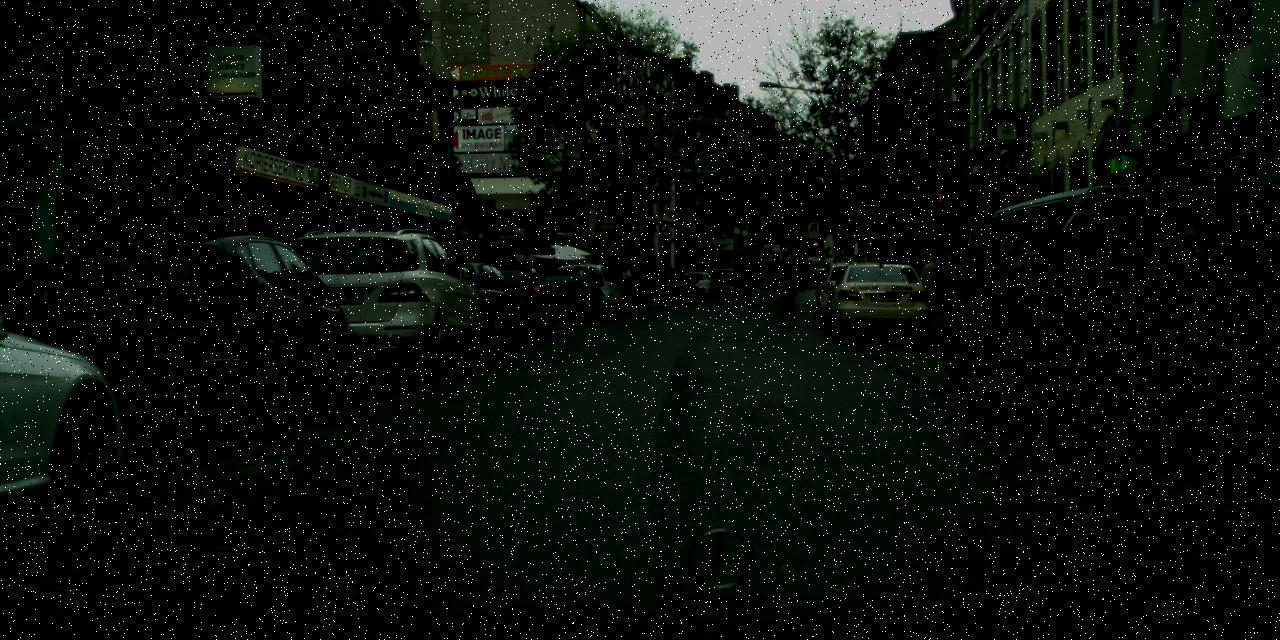ped: (44, 227, 104, 377), (774, 257, 802, 324), (920, 254, 944, 312), (544, 257, 564, 307), (619, 267, 632, 299), (633, 265, 645, 296), (674, 265, 686, 295), (652, 267, 664, 294)
